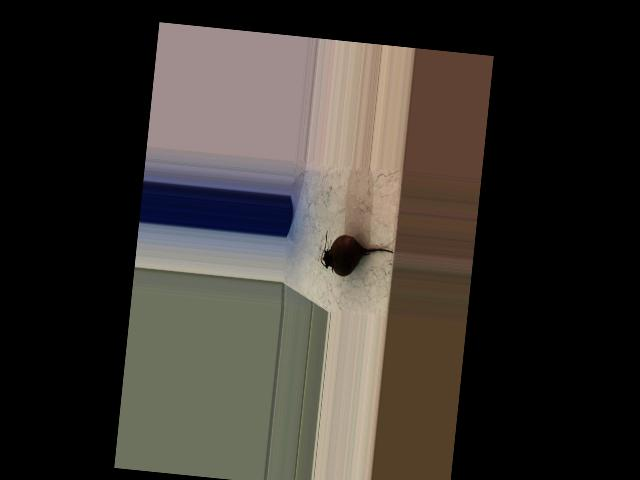beet: (319, 229, 395, 280)
